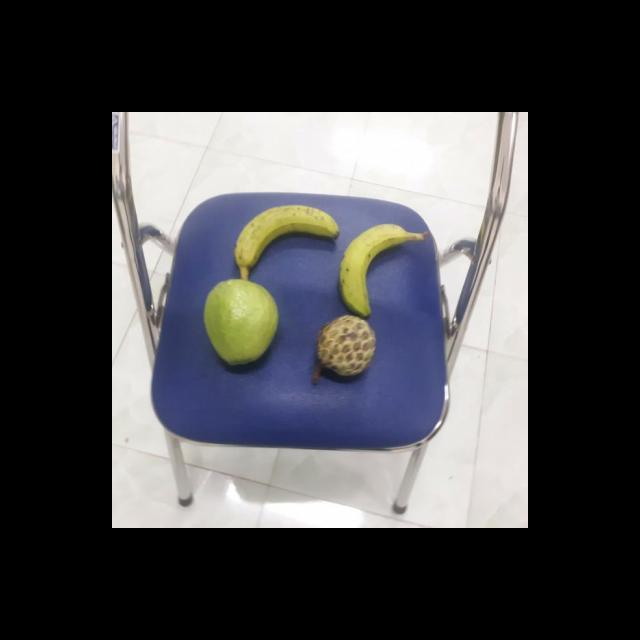Sakya fruit: (312, 316, 376, 378)
banana: (230, 204, 338, 275), (332, 224, 413, 314)
guava: (200, 280, 278, 366)
